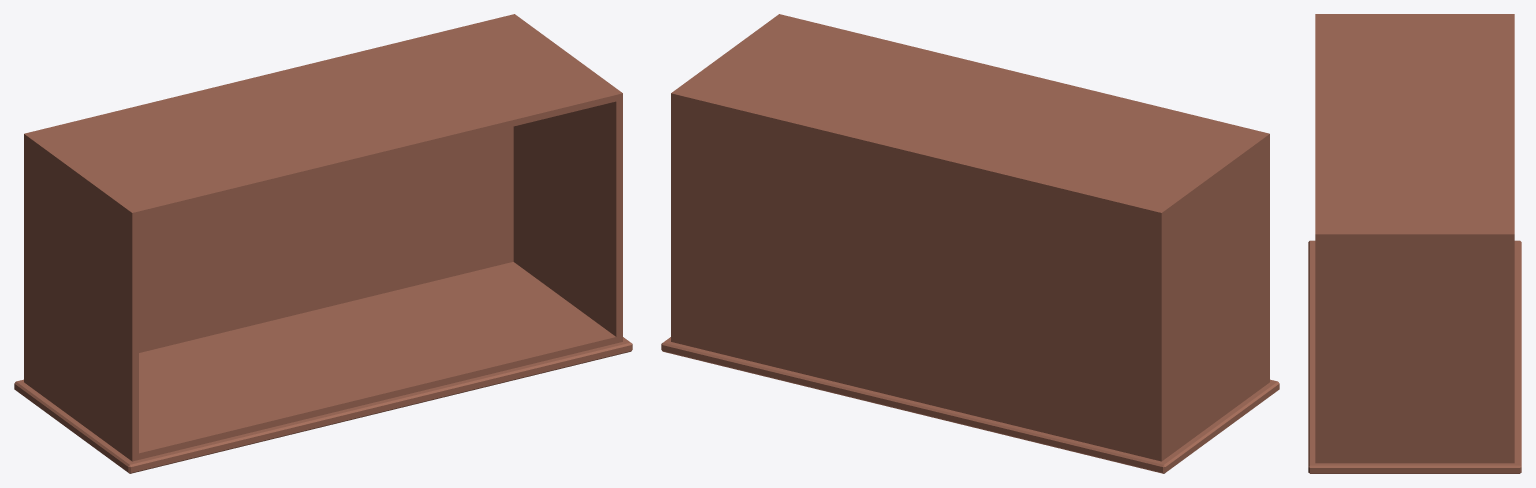
File: DrawermeshDeskDrawer_308_2_3_2.obj
3 views of the same model, side by side, from view 1: azimuth 30°, elevation 25°; view 2: azimuth 150°, elevation 25°; view 3: azimuth 270°, elevation 25° (orthographic). The views are drawn at different scales.
Visible parts, largest first — view 1: DeskDrawer_308_2_3; view 2: DeskDrawer_308_2_3; view 3: DeskDrawer_308_2_3.
Boxes of the visible parts, <box> form: DeskDrawer_308_2_3: <box>14,14,632,473</box>; DeskDrawer_308_2_3: <box>661,14,1279,473</box>; DeskDrawer_308_2_3: <box>1308,14,1521,473</box>.
Size of the model in its own units: 0.6789 by 0.3314 by 0.2699.
